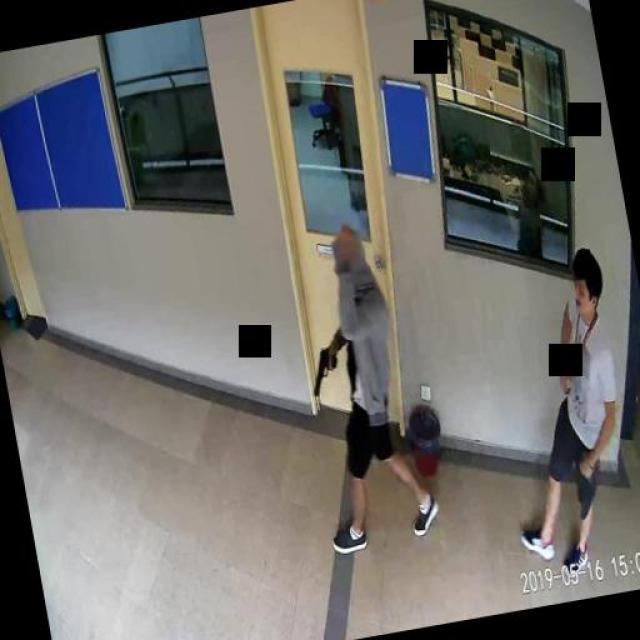gun: (305, 345, 340, 394)
